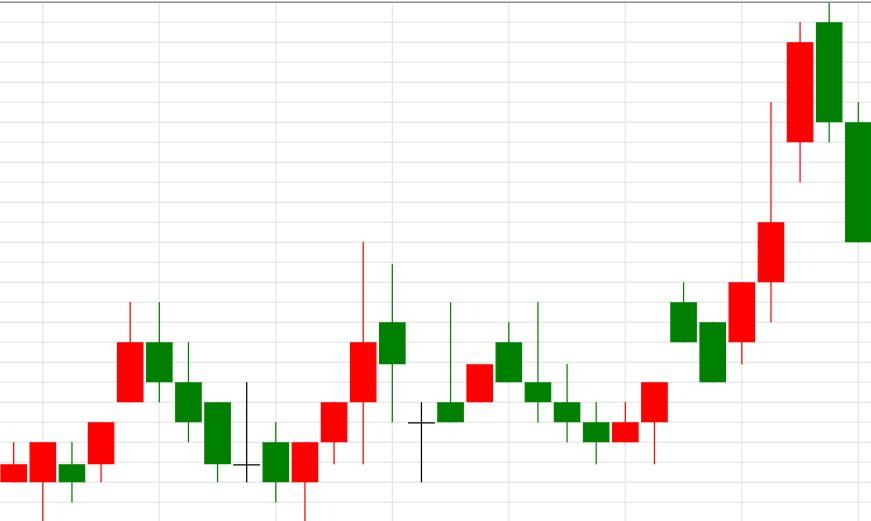three_black_crows_fall: (406, 301, 581, 482)
three_white_soldiers_rise: (116, 242, 378, 521)
